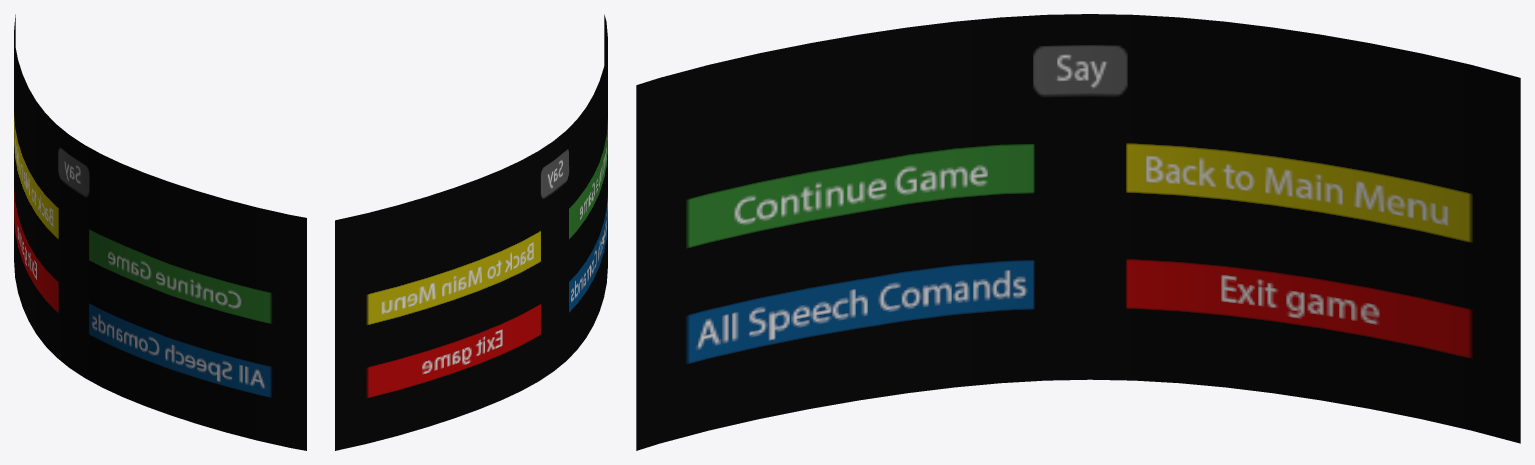
Rendered from curvedUI.fbx.
The picture shows the model from 3 angles, left to right: view 1: azimuth 30°, elevation 25°; view 2: azimuth 150°, elevation 25°; view 3: azimuth 270°, elevation 25°; orthographic projection. The views are drawn at different scales.
Parts seen in each view (by area): view 1: pPipe1; view 2: pPipe1; view 3: pPipe1.
Boxes of the visible parts, x1=… form: pPipe1: x1=14, y1=14, x2=306, y2=450; pPipe1: x1=335, y1=14, x2=607, y2=450; pPipe1: x1=636, y1=14, x2=1520, y2=450.
Size of the model in its own units: 1.67 by 4 by 8.76.
1 material, 1 textured.
